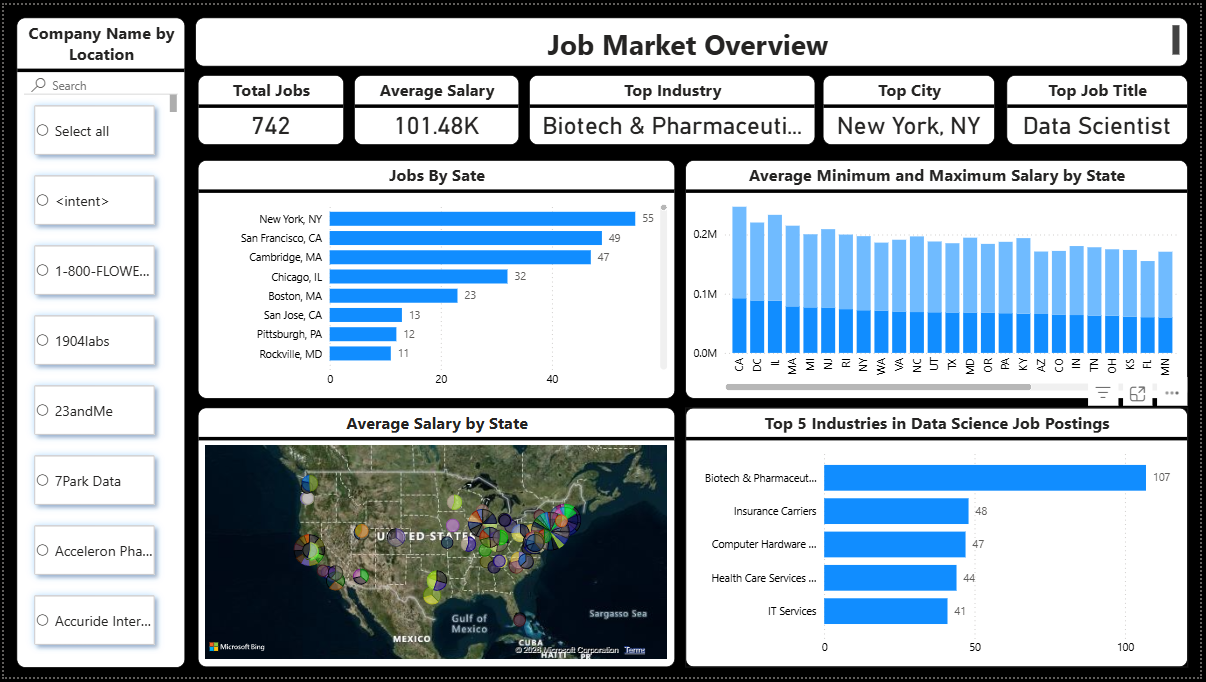

The dashboard page shown, as its layout file describes it:
{"tool":"powerbi","page":{"name":"Page 1","canvas":[1366,768],"ordinal":0},"visuals":[{"type":"barChart","title":"Jobs By Sate","fields":{"Category":["Job_Market_Analysis (5).Location"],"Y":["CountNonNull(Job_Market_Analysis (5).ID)"]},"box":[221.4,177.1,545.7,272.9],"z":0},{"type":"columnChart","title":"Average Minimum and Maximum Salary by State","fields":{"Y":["Avg(Job_Market_Analysis (5).Minumum_Salary)","Avg(Job_Market_Analysis (5).Maximum_Salary)"],"Category":["Job_Market_Analysis (5).Job_Location"]},"box":[778.6,177.1,574.3,272.9],"z":1000},{"type":"map","title":"Average Salary by State","fields":{"Category":["Job_Market_Analysis (5).Location"],"Series":["Job_Market_Analysis.Avg_Salary"],"Size":["Avg(Job_Market_Analysis.Avg_Salary)"]},"box":[221.4,460,545.7,297.1],"z":2000},{"type":"barChart","title":"Top 5 Industries in Data Science Job Postings","fields":{"Category":["Job_Market_Analysis (5).Industry"],"Y":["CountNonNull(Job_Market_Analysis.Job_title_sim)"]},"box":[778.6,460,574.3,297.1],"z":3000},{"type":"listSlicer","title":"Company Name by Location","fields":{"Values":["Job_Market_Analysis (5).Company_Name"]},"box":[14.3,14.3,192.9,742.9],"z":4000},{"type":"card","title":"Total Jobs ","fields":{"Values":["CountNonNull(Job_Market_Analysis (5).ID)"]},"box":[221.4,80,167.1,80],"z":5000},{"type":"card","title":"Average Salary","fields":{"Values":["Avg(Job_Market_Analysis (5).Avg_Salary)"]},"box":[400,80,188.6,80],"z":6000},{"type":"card","title":"Top Industry","fields":{"Values":["Job_Market_Analysis.Top_Industry"]},"box":[600,80,327.1,80],"z":7000},{"type":"card","title":"Top City ","fields":{"Values":["Job_Market_Analysis.Top_City"]},"box":[935.7,80,197.1,80],"z":8000},{"type":"card","title":"Top Job Title","fields":{"Values":["Job_Market_Analysis.Top_Job_Title"]},"box":[1145.7,80,207.1,80],"z":9000},{"type":"textbox","box":[218.6,14.3,1134.3,55.7],"z":10000}]}

Visuals, with their boxes in screenshot pixels (x1, y1, x2, y2), scaled from the page's 1366x768 canvas onto the 1206x682 screenshot:
"Jobs By Sate" barChart: box=[195, 157, 677, 400]
"Average Minimum and Maximum Salary by State" columnChart: box=[687, 157, 1194, 400]
"Average Salary by State" map: box=[195, 408, 677, 672]
"Top 5 Industries in Data Science Job Postings" barChart: box=[687, 408, 1194, 672]
"Company Name by Location" listSlicer: box=[13, 13, 183, 672]
"Total Jobs " card: box=[195, 71, 343, 142]
"Average Salary" card: box=[353, 71, 520, 142]
"Top Industry" card: box=[530, 71, 819, 142]
"Top City " card: box=[826, 71, 1000, 142]
"Top Job Title" card: box=[1012, 71, 1194, 142]
textbox: box=[193, 13, 1194, 62]
